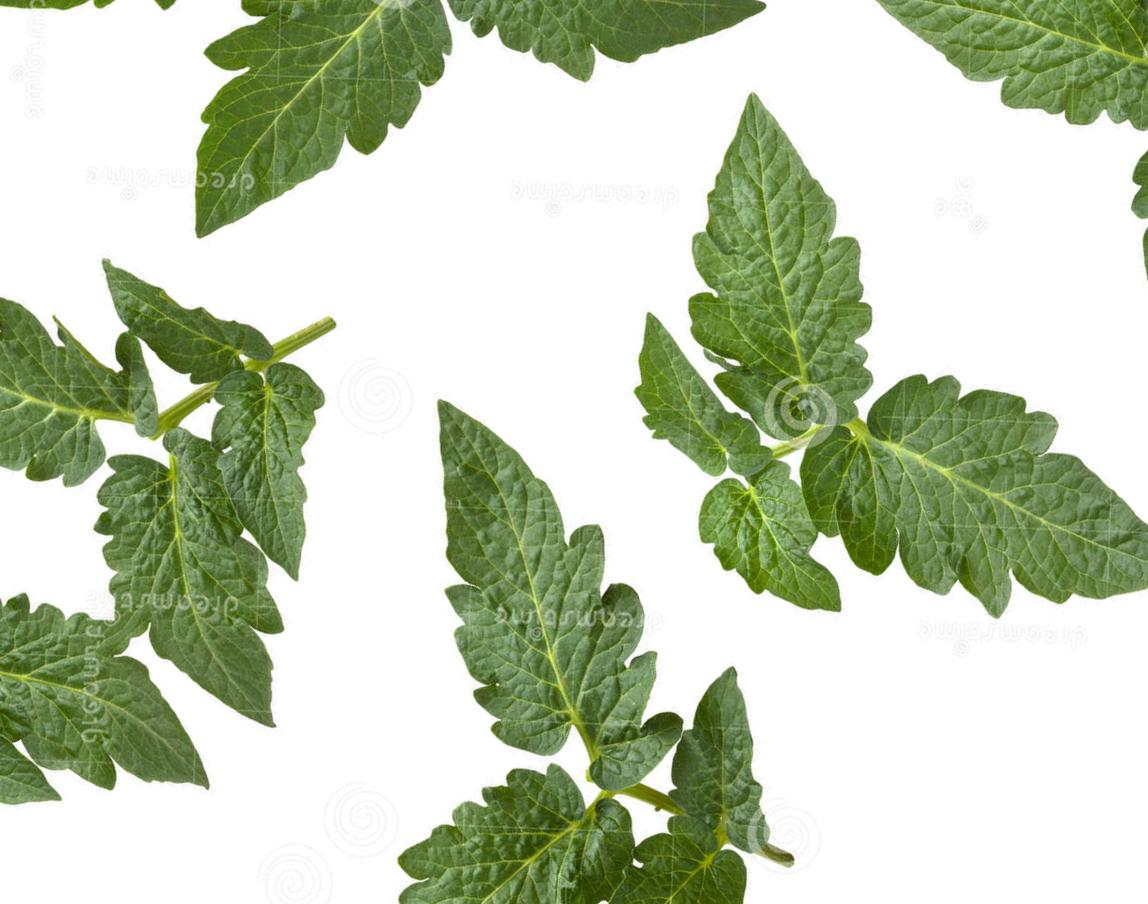Tomato leaf: (273, 333, 758, 827), (754, 274, 1148, 757), (554, 47, 973, 469), (35, 400, 409, 781), (78, 0, 542, 293), (343, 705, 685, 904), (0, 208, 175, 535)
